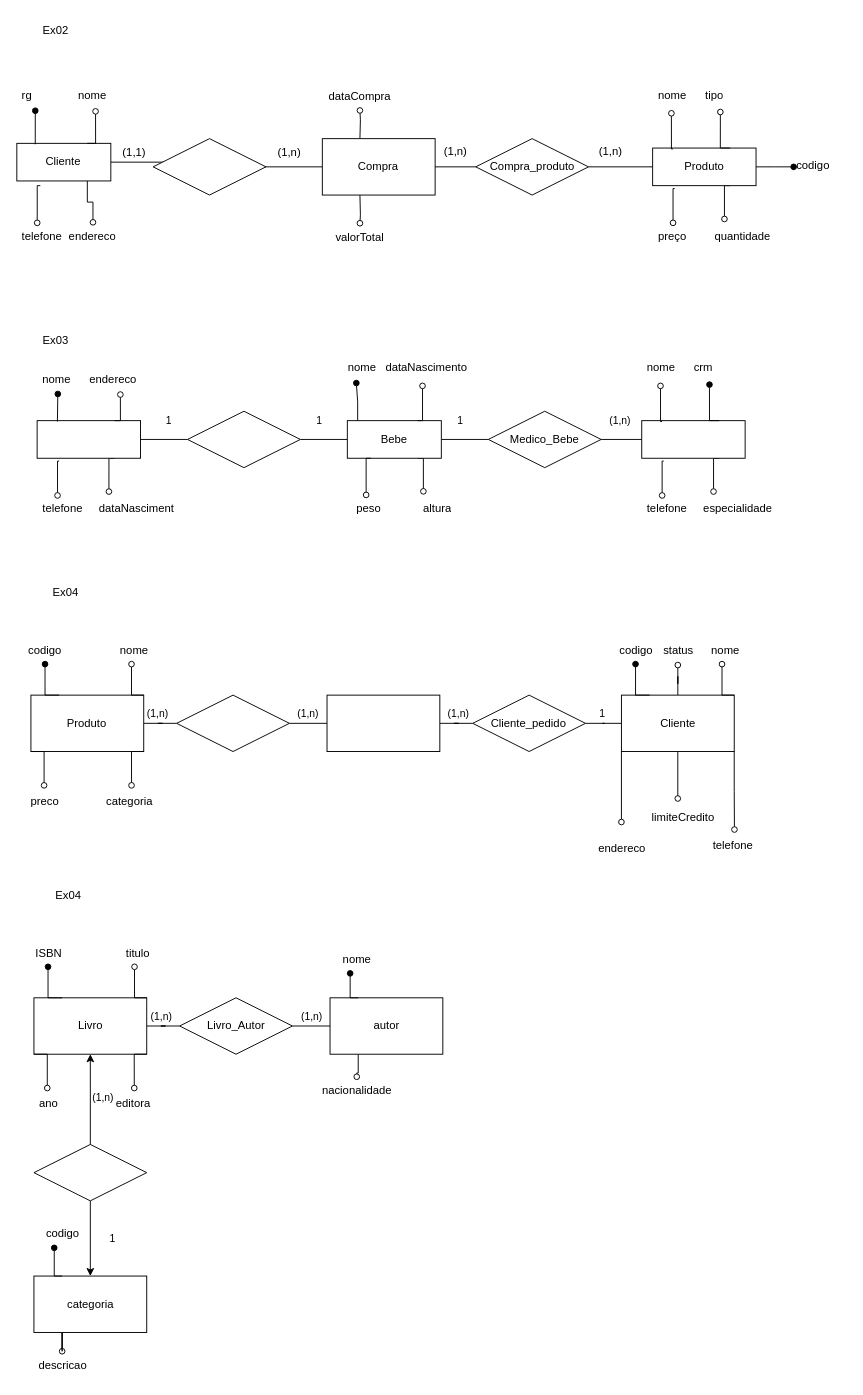
Image size: 863x1395. Some labels were removed from this diagram. Here are the shapes that lost their labels. From the top down, the centre of each, then its label:
At (x=209, y=166): "Cliente_Compra".
At (x=88, y=439): "Mae".
At (x=243, y=439): "Mae_Bebe".
At (x=693, y=439): "Medico".
At (x=232, y=723): "Produto_Pedido".
At (x=383, y=723): "Pedido".
At (x=90, y=1172): "Livro_Categoria".
